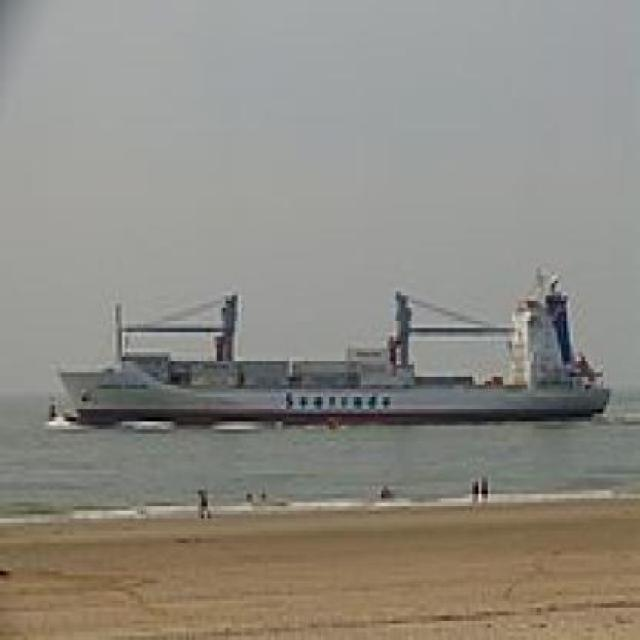container: (47, 249, 624, 438)
